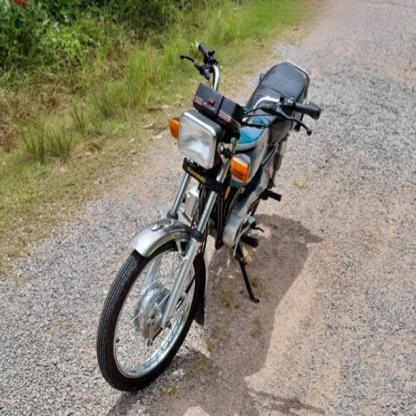Motorcycle: (93, 47, 318, 402)
